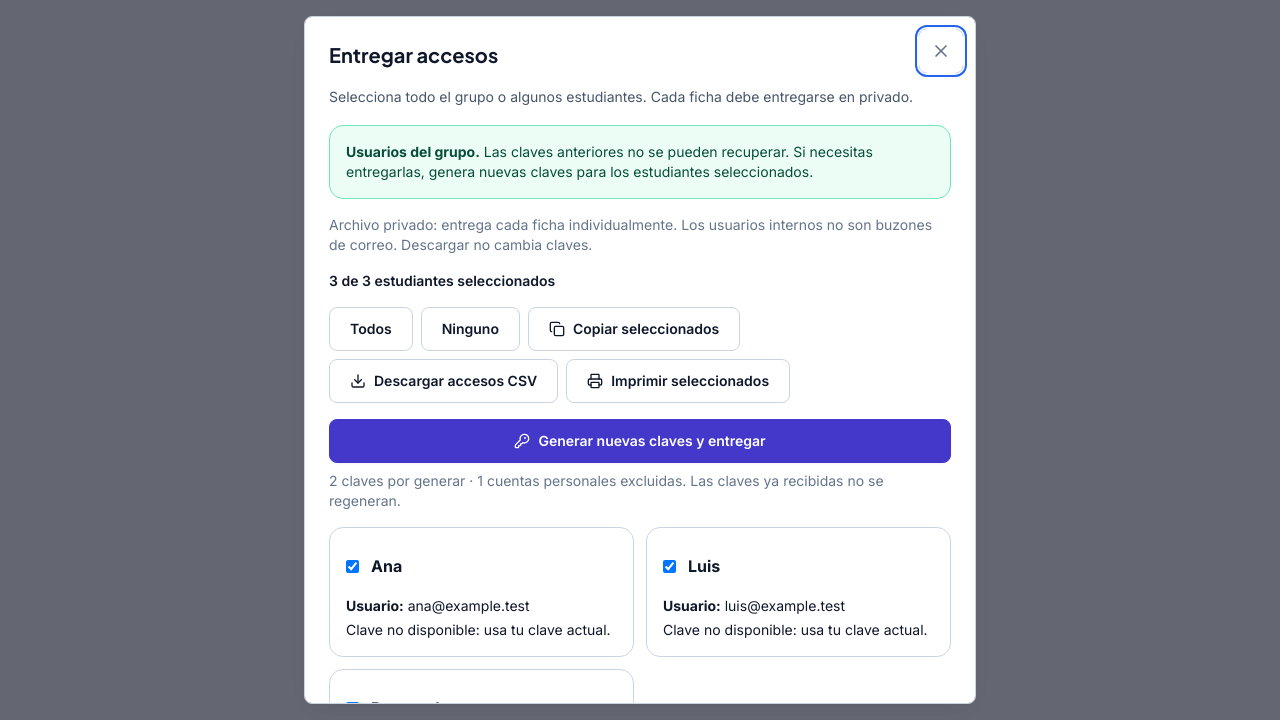
does not renew if eligibility changed since the confirmation was opened
Click the button "Generar nuevas claves y entregar": (640, 441) [329, 419, 951, 463]
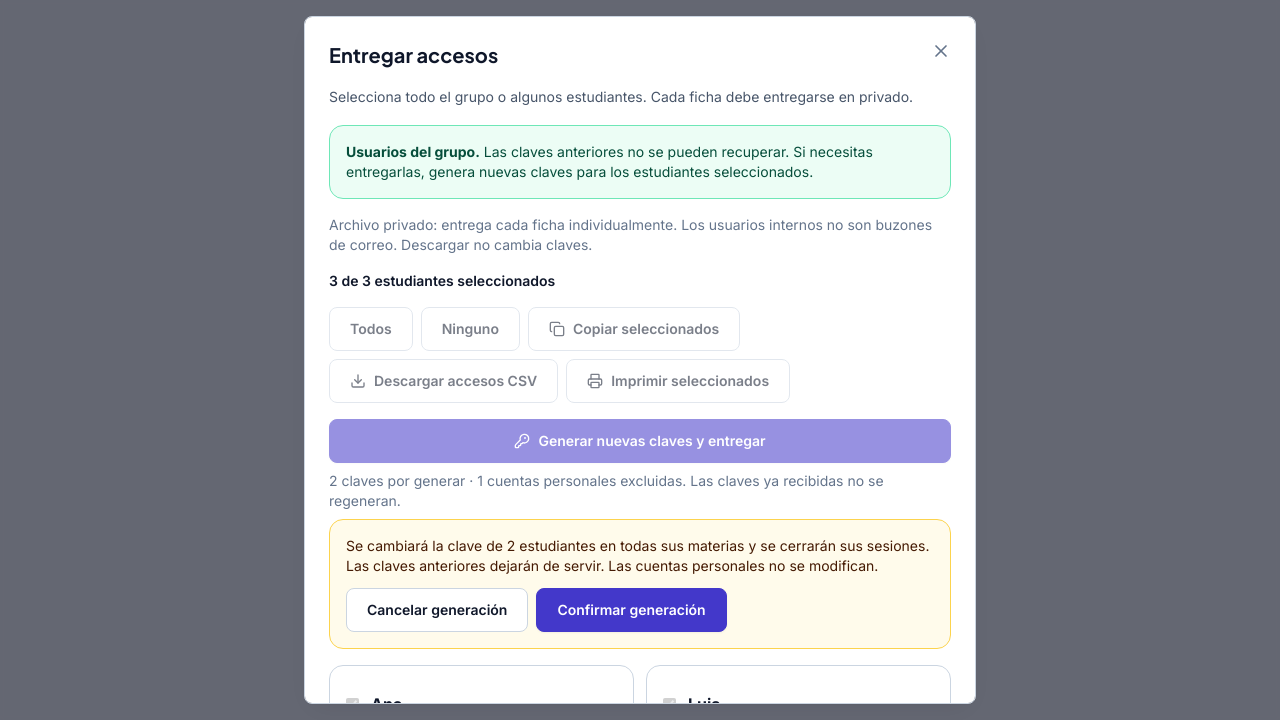
Click the button "Confirmar generación": (632, 610) [536, 588, 727, 632]
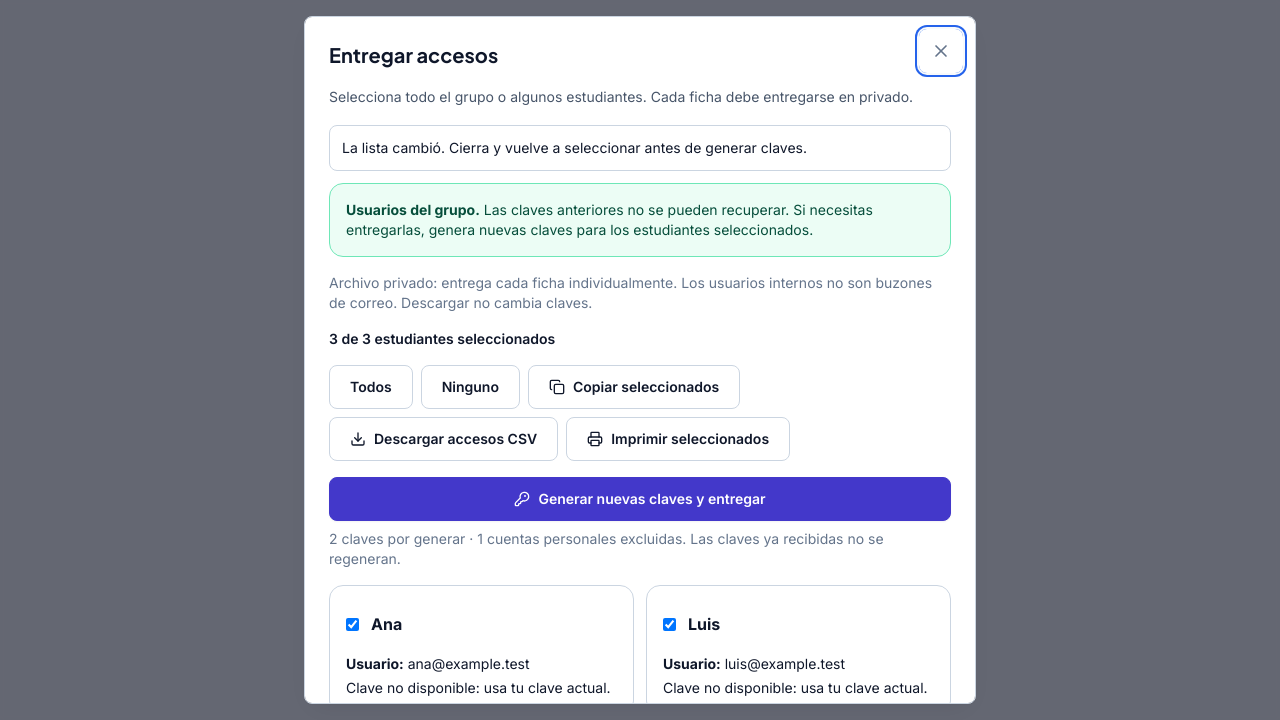
Expected: the message "La lista cambió. Cierra y vuelve a seleccionar antes de generar claves." is shown, [329, 125, 951, 171]
